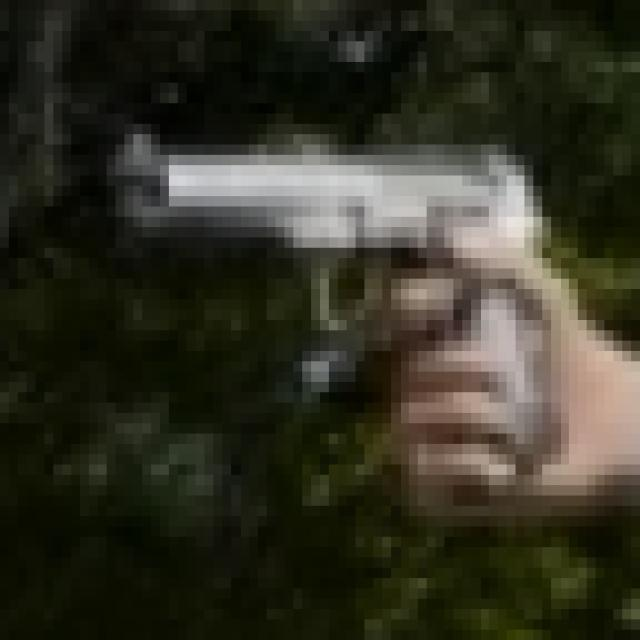Pistol: (98, 106, 568, 484)
